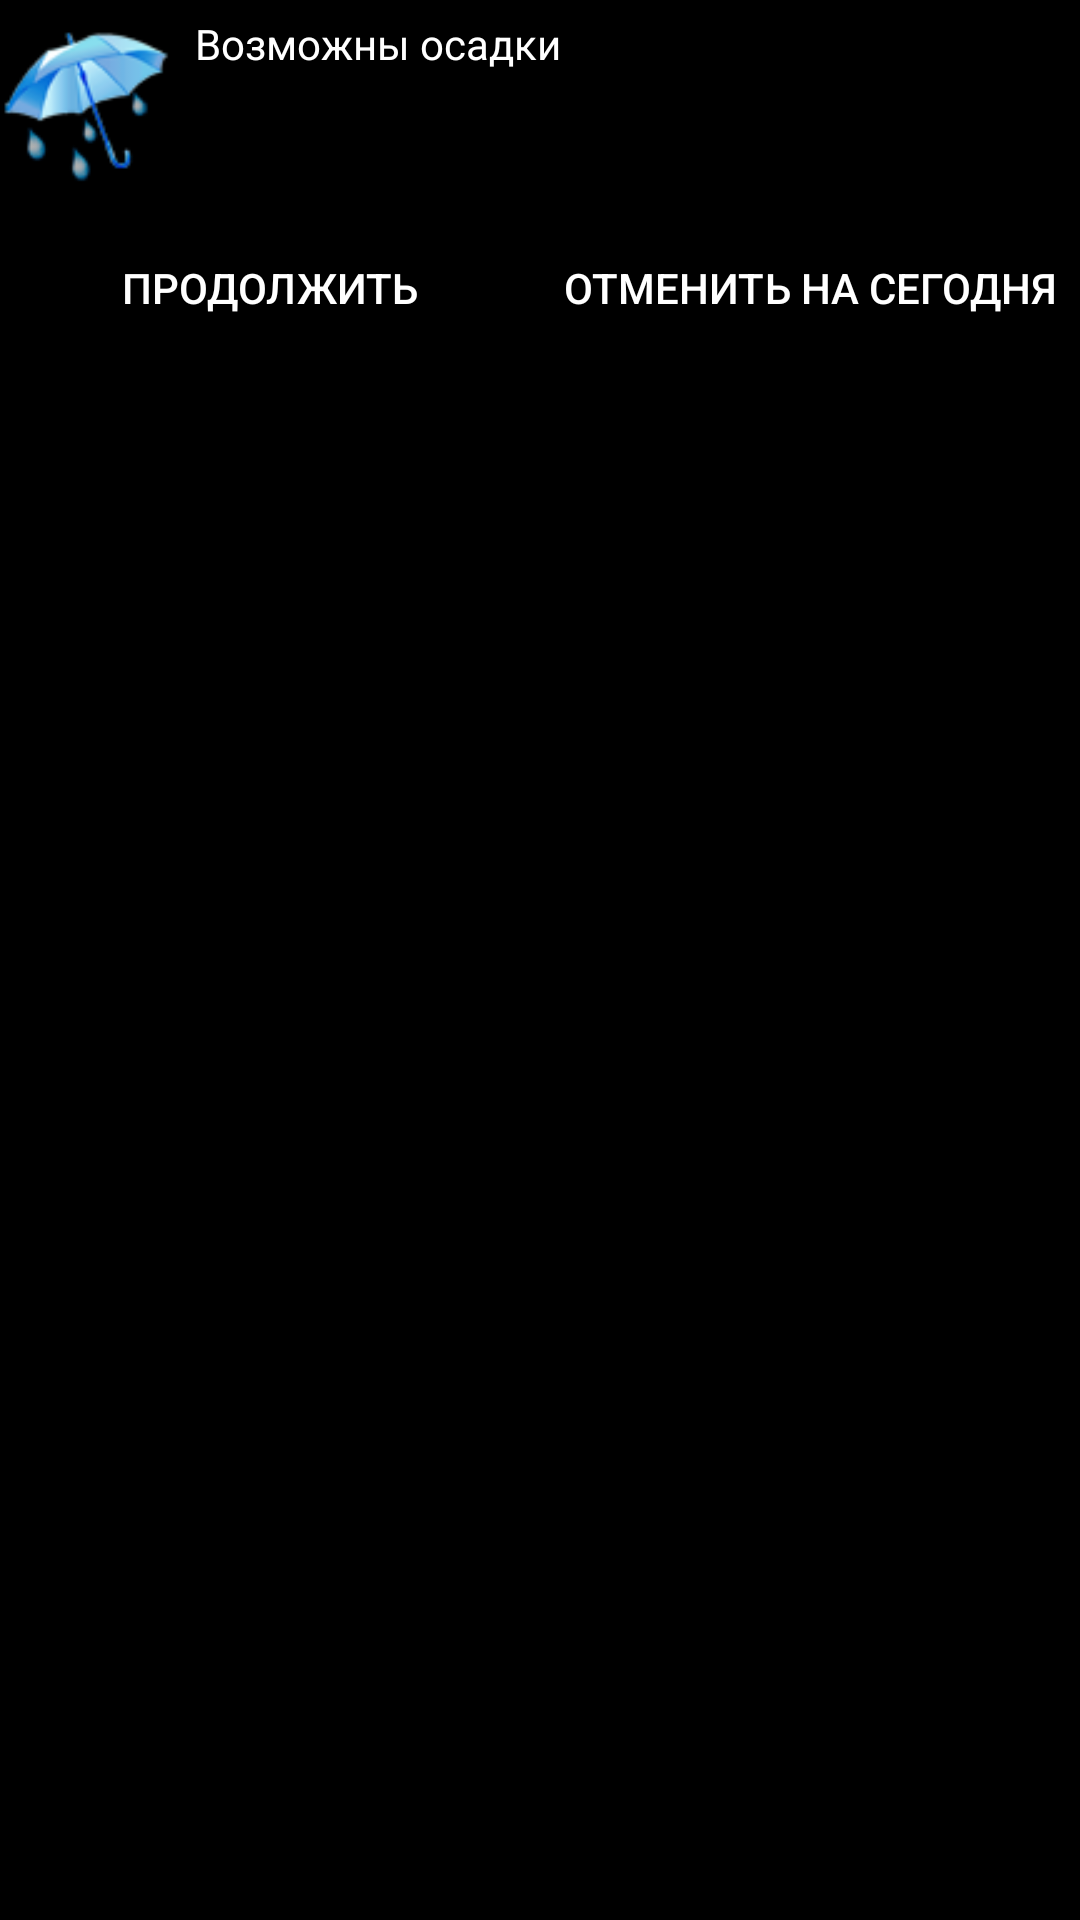

Icon click points for this 1080w x 1920h phone screenshot, format point (x, y):
notification rain: point (86, 106)
